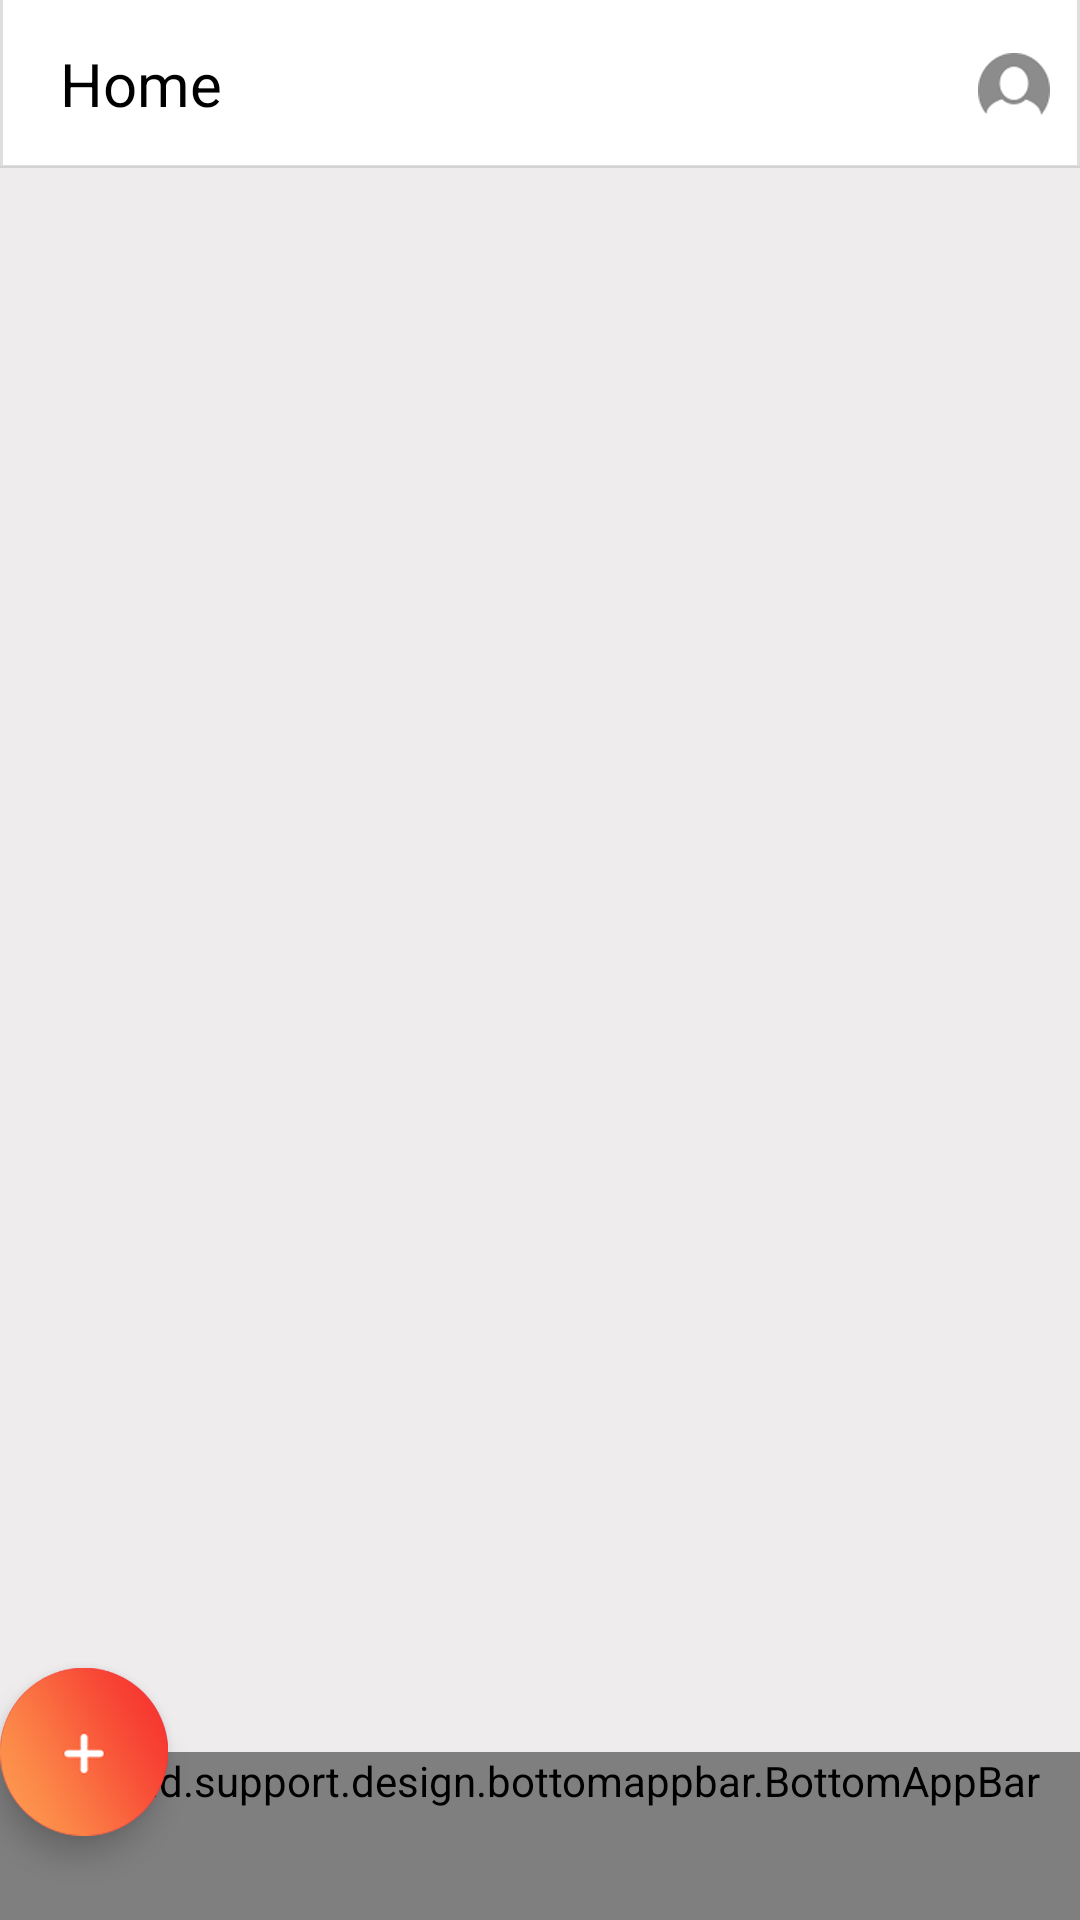

Screen size 1080w x 1920h. Icon name, then its center in pixels as (x=x, y=y):
create post home: (x=84, y=1752)
profile: (x=1014, y=84)
